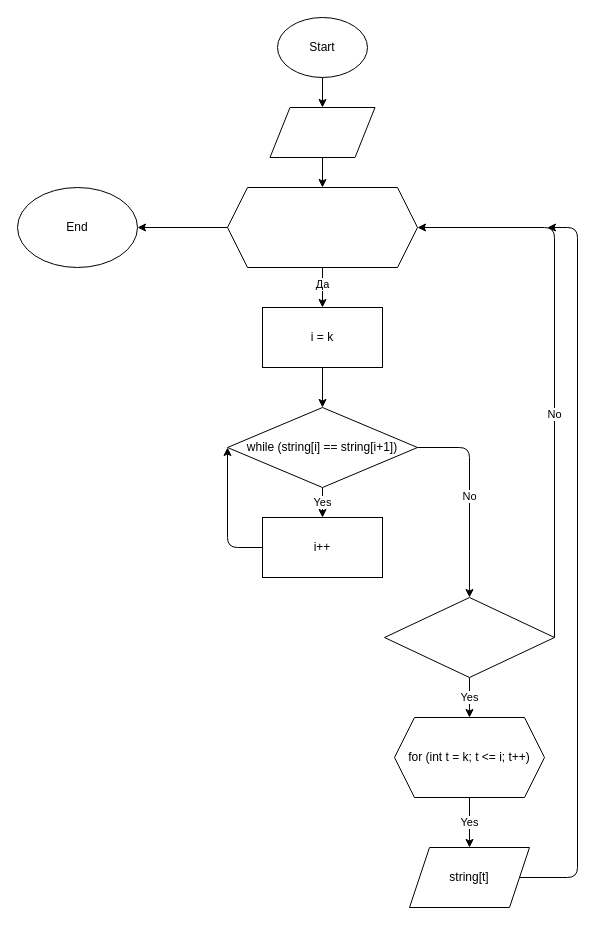
Some shapes in this 603 by 925 pixel diagram are drawn without their labels. The centre of each missing label's shape, as x and y in pixels:
"abs(k+1-i) % 2 == 0" goes at (x=469, y=637).
"for (int i = 0; i <= strlen(string); i++)" goes at (x=322, y=227).
"string" goes at (x=322, y=132).
